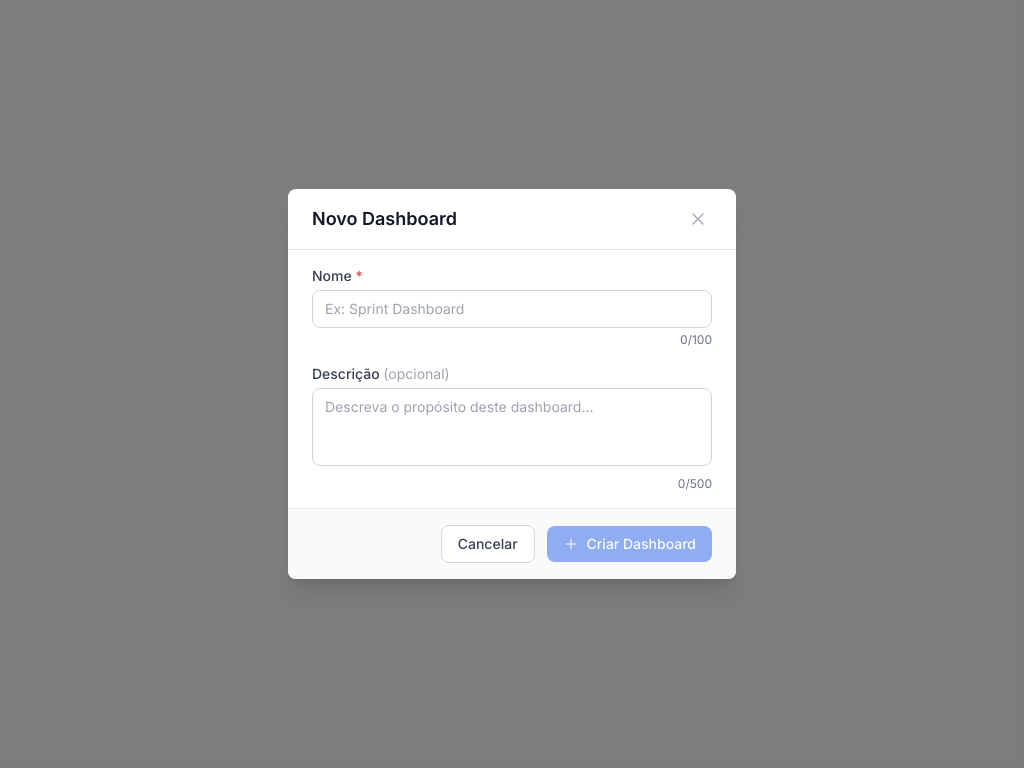
Scenario: CreateDashboardModal › Form Submission › should show error message when creation fails
The width and height of the screenshot is (1024, 768).
Type "New Dashboard" into the field labelled "Nome *".
click(512, 309); type("New Dashboard")  # box [312,290,712,328]
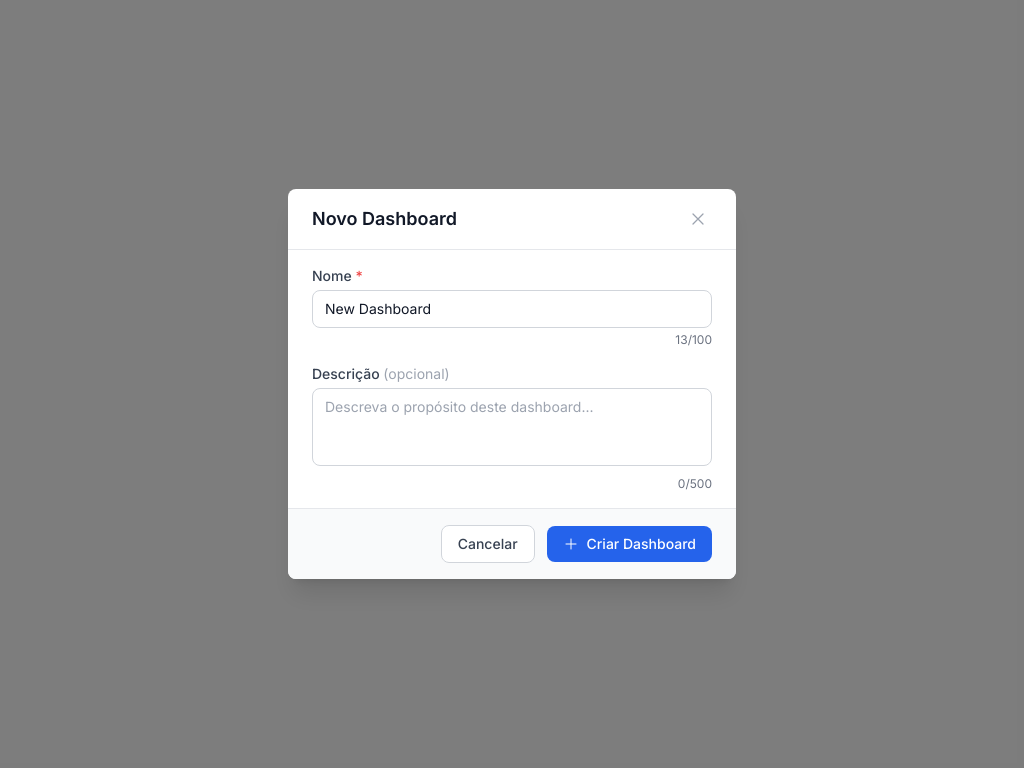
Click the button "Criar Dashboard".
click(629, 544)  # box [547,526,712,562]
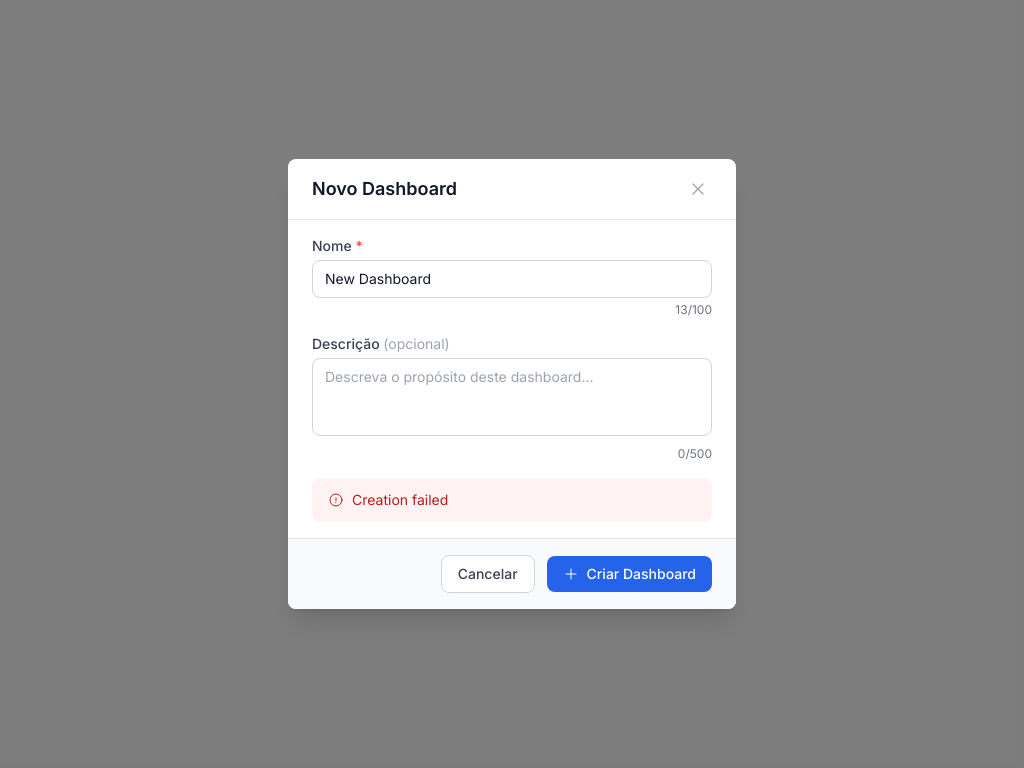
Expected: the text "Creation failed" is shown, [352,490,448,510]
